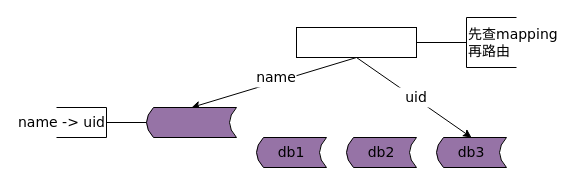
Some shapes in this 575 by 185 pixel diagram are drawn without their labels. Here are the shapes that lost their labels. From the top down, the centre of each, then its label:
At (x=356, y=42): "user-service".
At (x=191, y=122): "mapping".
